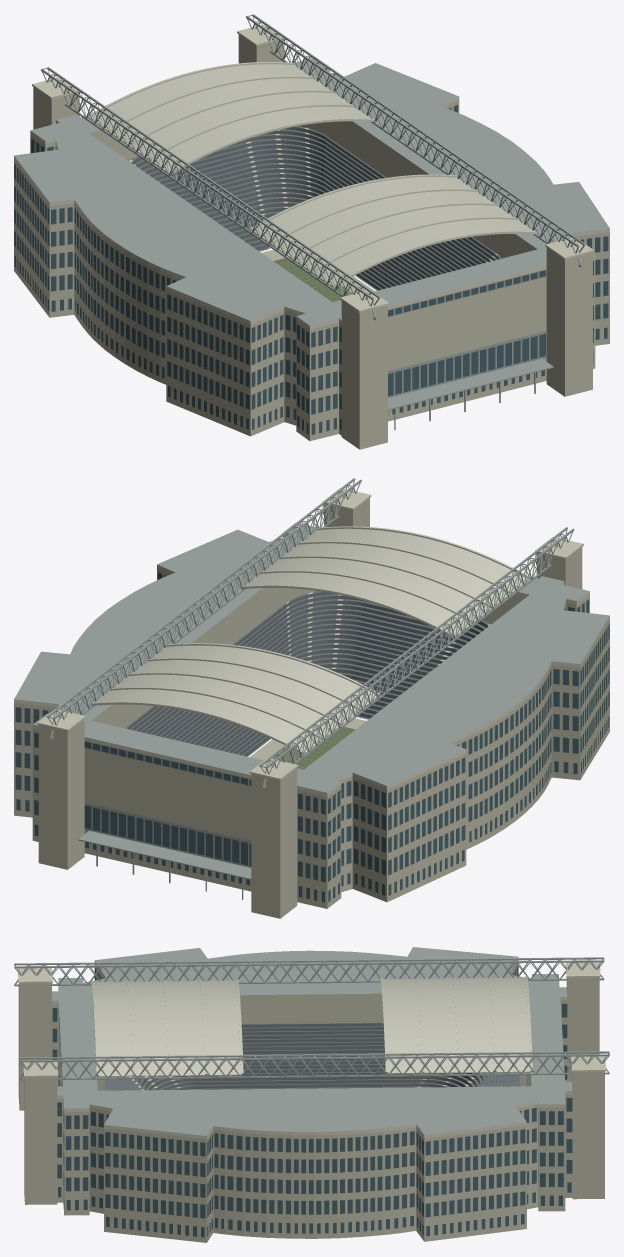
Rendered from nrg-stadium-near.glb.
3 views of the same model, one above another, from view 1: azimuth 30°, elevation 25°; view 2: azimuth 150°, elevation 25°; view 3: azimuth 270°, elevation 25° (orthographic). The views are drawn at different scales.
Parts seen in each view (by area): view 1: nrg-stadium-0-steel, nrg-stadium-0-stone, nrg-stadium-0-roof, nrg-stadium-0-glass, nrg-stadium-0-seat, nrg-stadium-0-trim, nrg-stadium-0-turf; view 2: nrg-stadium-0-steel, nrg-stadium-0-stone, nrg-stadium-0-roof, nrg-stadium-0-glass, nrg-stadium-0-seat, nrg-stadium-0-trim, nrg-stadium-0-turf; view 3: nrg-stadium-0-steel, nrg-stadium-0-stone, nrg-stadium-0-roof, nrg-stadium-0-glass, nrg-stadium-0-seat, nrg-stadium-0-trim.
Part boxes in pixels (left/top/right/bottom): nrg-stadium-0-steel: left=14, top=14, right=609, bottom=430; nrg-stadium-0-stone: left=14, top=34, right=609, bottom=449; nrg-stadium-0-roof: left=88, top=62, right=537, bottom=286; nrg-stadium-0-glass: left=14, top=105, right=608, bottom=434; nrg-stadium-0-seat: left=131, top=126, right=501, bottom=290; nrg-stadium-0-trim: left=14, top=24, right=609, bottom=435; nrg-stadium-0-turf: left=273, top=257, right=352, bottom=302; nrg-stadium-0-steel: left=14, top=478, right=609, bottom=899; nrg-stadium-0-stone: left=14, top=498, right=609, bottom=918; nrg-stadium-0-roof: left=91, top=526, right=530, bottom=754; nrg-stadium-0-glass: left=15, top=572, right=609, bottom=902; nrg-stadium-0-seat: left=125, top=591, right=489, bottom=756; nrg-stadium-0-trim: left=14, top=488, right=609, bottom=902; nrg-stadium-0-turf: left=272, top=727, right=355, bottom=769; nrg-stadium-0-steel: left=14, top=947, right=609, bottom=1218; nrg-stadium-0-stone: left=18, top=963, right=604, bottom=1242; nrg-stadium-0-roof: left=91, top=976, right=532, bottom=1076; nrg-stadium-0-glass: left=52, top=966, right=572, bottom=1237; nrg-stadium-0-seat: left=105, top=1022, right=520, bottom=1090; nrg-stadium-0-trim: left=18, top=957, right=605, bottom=1237.
Bounding box in the file's own units: 235 × 80.77 × 313.
